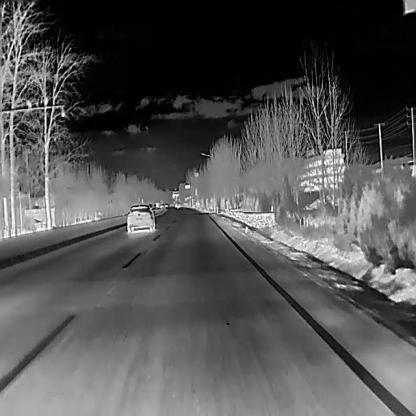car: (127, 203, 154, 232), (174, 202, 180, 208), (156, 202, 160, 207), (164, 202, 168, 206), (160, 203, 162, 207)
